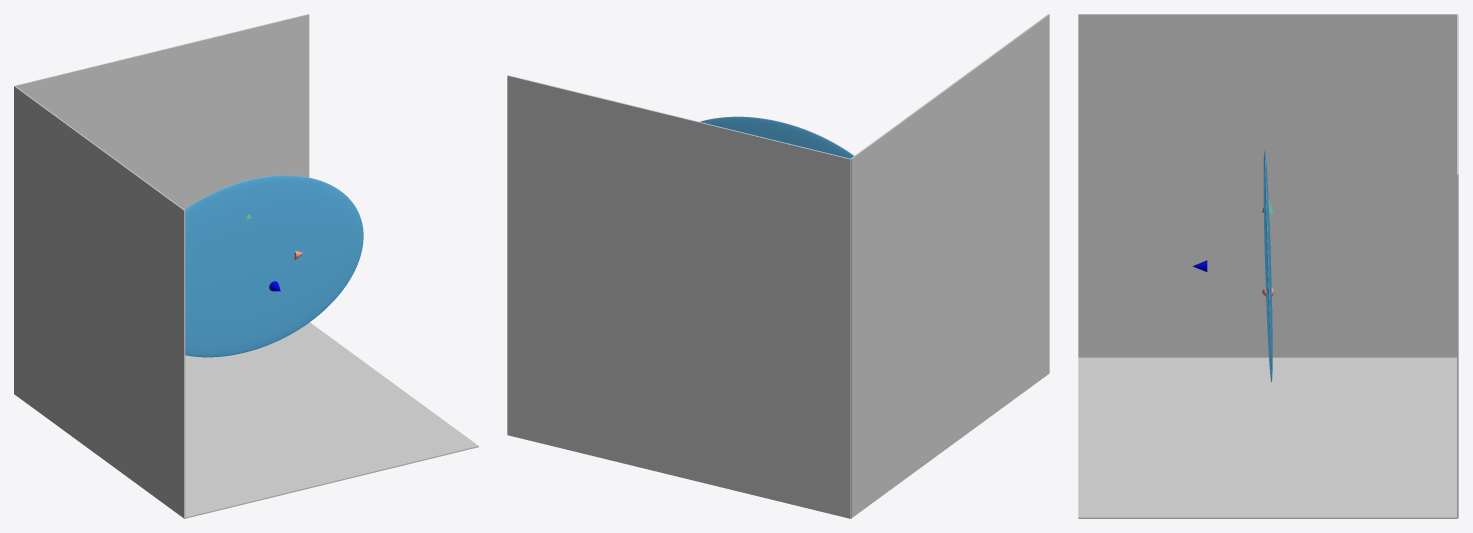
The model's file is fig8_8b.gltf.
3 renders of one model, left to right at view 1: azimuth 30°, elevation 25°; view 2: azimuth 150°, elevation 25°; view 3: azimuth 270°, elevation 25°, orthographic. The views are drawn at different scales.
Visible parts, largest first — view 1: Renderer Node; view 2: Renderer Node; view 3: Renderer Node.
Part boxes in pixels (bbox=[...]): Renderer Node: bbox=[14, 14, 478, 518]; Renderer Node: bbox=[507, 14, 1049, 518]; Renderer Node: bbox=[1078, 14, 1458, 518].
Size of the model in its own units: 5.01 by 5.01 by 5.01.
